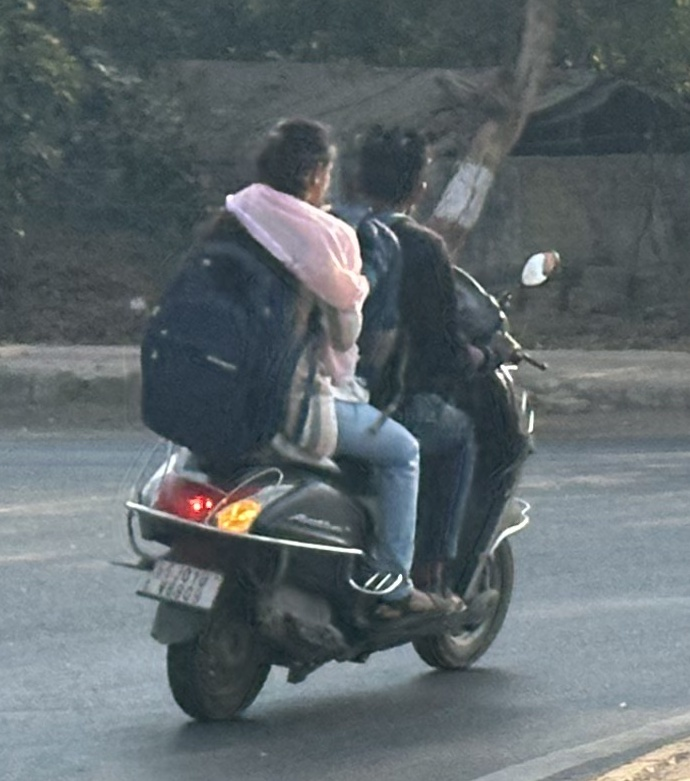BikeWithRider: (124, 102, 556, 732)
NoHelmet: (251, 107, 334, 207), (351, 127, 434, 224)
